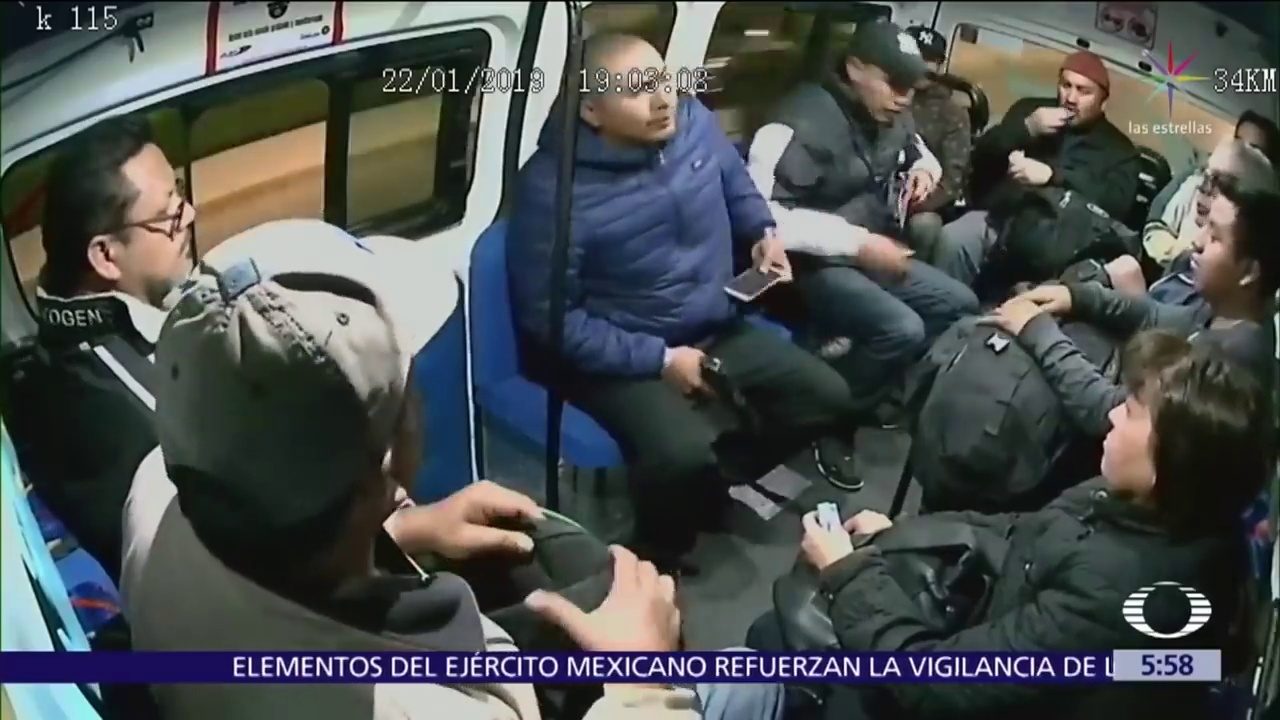pistol: (681, 355, 748, 411)
